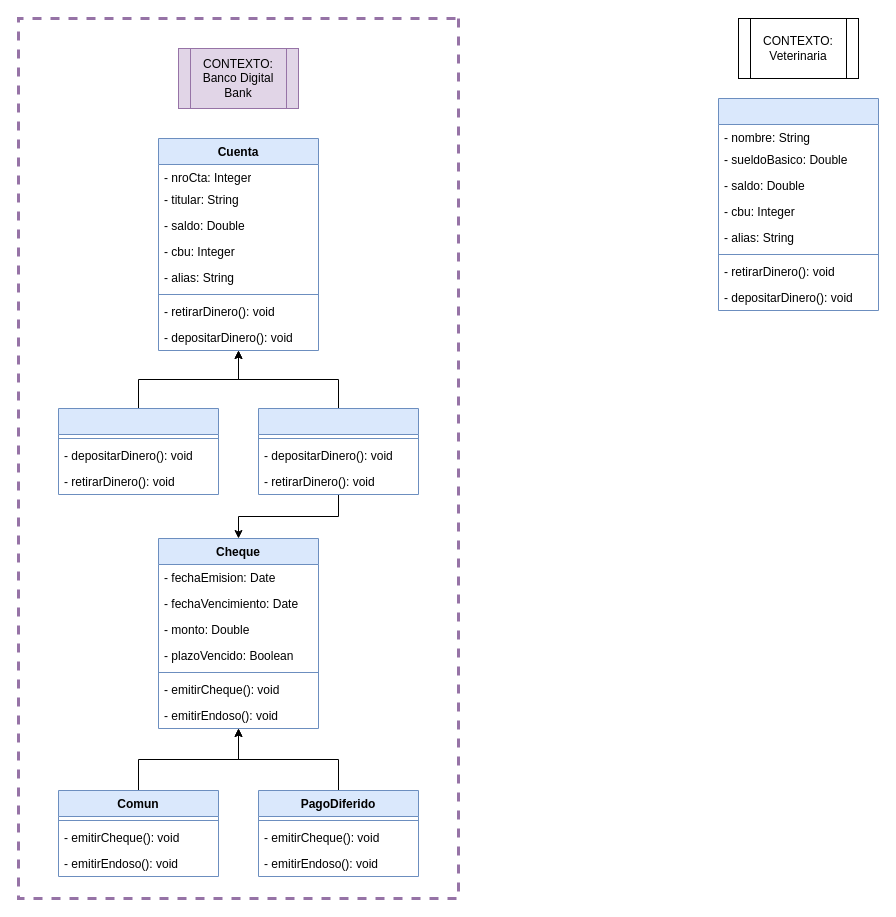
The diagram is 896 pixels wide and 917 high, and some of its shapes have lost their labels. The shapes that lost their labels are listed below. From the top down, each one's box as (x1, y1, x2, y2) in pixels, then its label:
(718, 98, 878, 310): Doctor
(58, 408, 218, 494): CajaDeAhorros
(258, 408, 418, 494): CuentaCorriente
